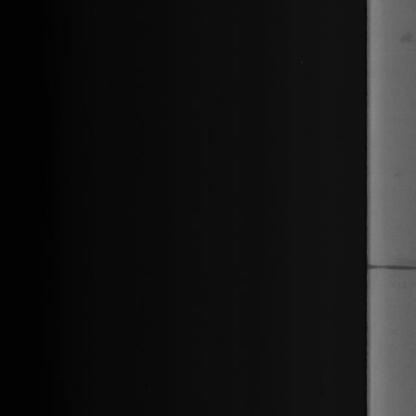crease: (360, 252, 414, 286)
